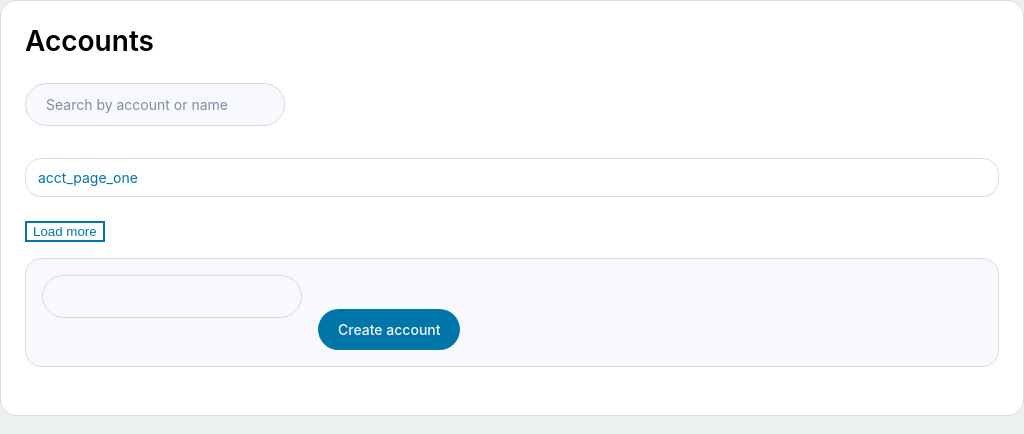
Test: AccountsListRoute › appends the next page to the rows already on screen
Expected: the link "acct_page_one" is shown, [38, 167, 138, 188]
Expected: the link "acct_page_two" is not shown
Click the button "Load more".
click(65, 231)  # box [25, 221, 105, 242]
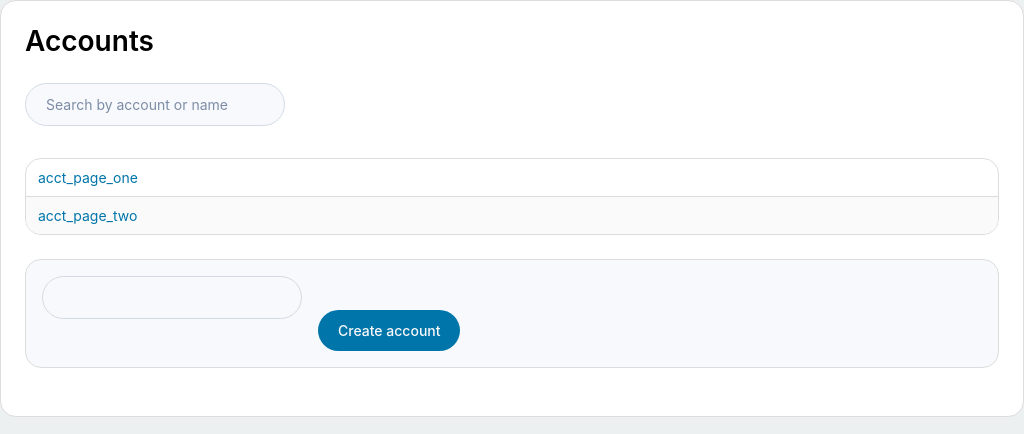
Expected: the link "acct_page_one" is shown, [38, 167, 138, 188]
Now the link "acct_page_two" is shown, box [38, 205, 137, 226]
Now the button "Load more" is gone
